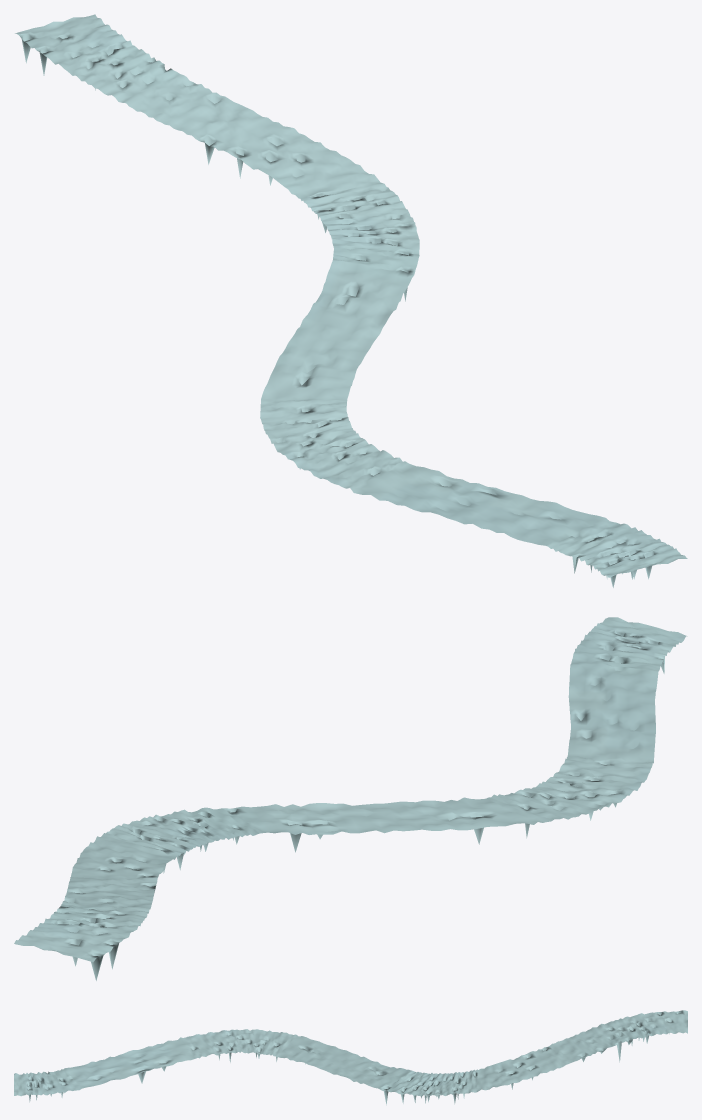
The model's file is field_winter_road7.fbx.
3 renders of one model, top to bottom at view 1: azimuth 30°, elevation 25°; view 2: azimuth 150°, elevation 25°; view 3: azimuth 270°, elevation 25°, orthographic. The views are drawn at different scales.
Visible parts, largest first — view 1: field_winter_road7; view 2: field_winter_road7; view 3: field_winter_road7.
Part boxes in pixels (x1,y1,x2,y2): field_winter_road7: (15, 14, 687, 587); field_winter_road7: (14, 617, 687, 980); field_winter_road7: (14, 1010, 687, 1105).
Bounding box in the file's own units: 1052 × 466 × 3468.
Materials: 1 (1 with a texture image).
